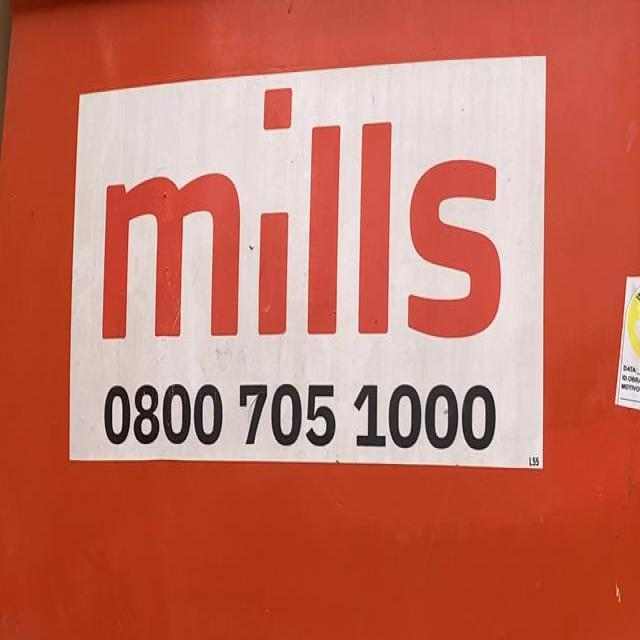Adesivos: (59, 29, 557, 491)
